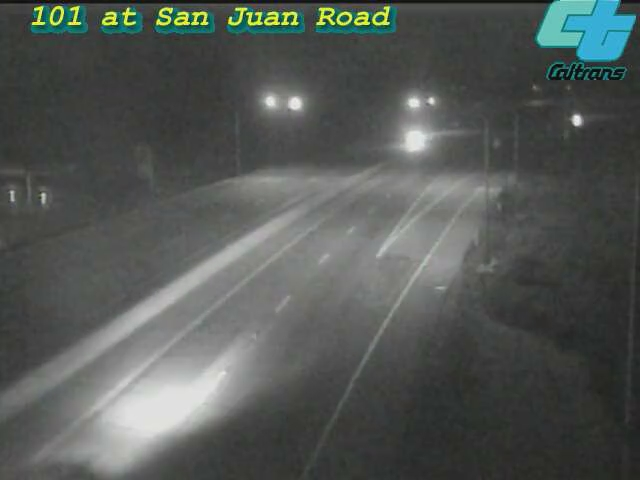vehicle: (15, 417, 125, 480), (391, 114, 441, 164), (553, 96, 603, 146)
